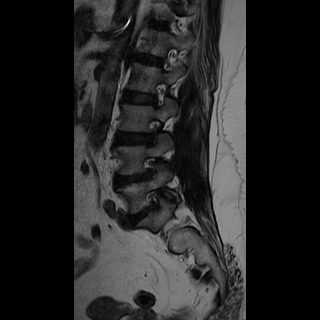LFS0: (145, 77, 172, 113)
LFS1: (141, 150, 163, 183)
LFS2: (142, 114, 166, 150)
